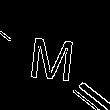M_N: (30, 28, 80, 82)
